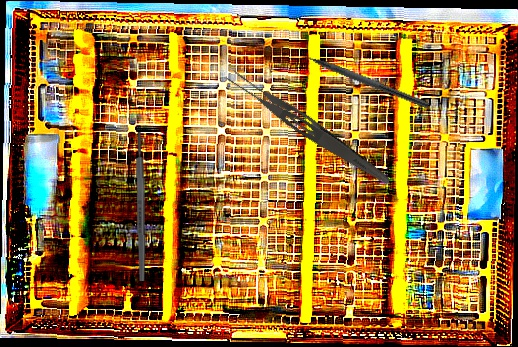Chopper: (290, 41, 434, 109)
Dressing Forceps: (223, 66, 397, 189)
Scalpel Handle: (134, 131, 147, 282)
